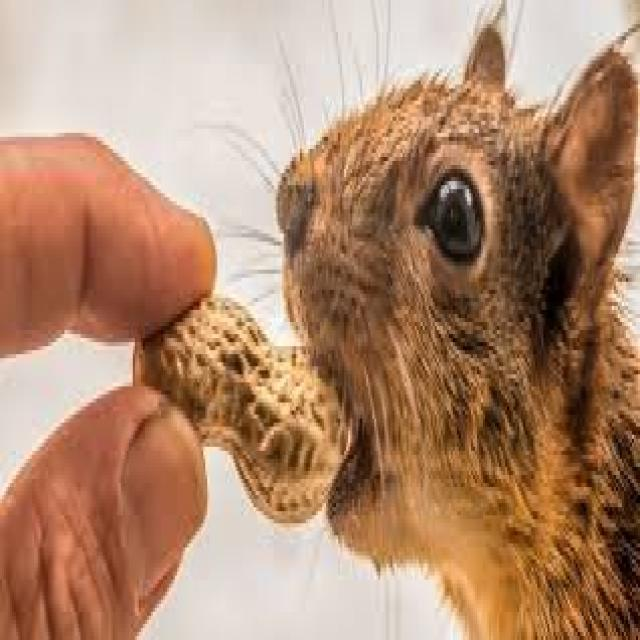Squirrel: (272, 56, 640, 640)
